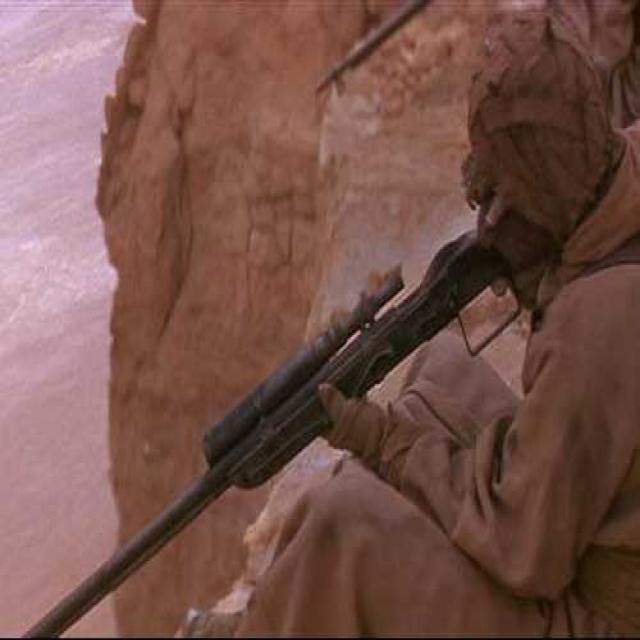heavyweapon: (18, 192, 568, 640)
